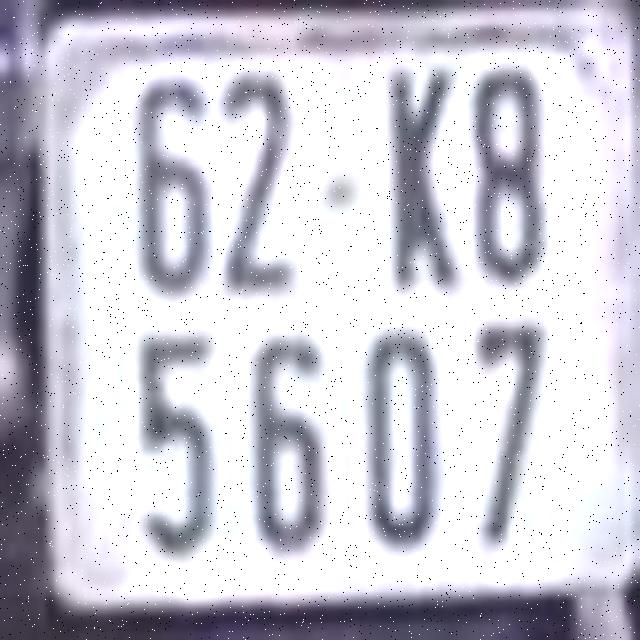0: (364, 322, 441, 548)
2: (220, 70, 296, 293)
5: (134, 330, 218, 556)
6: (248, 328, 328, 553), (137, 75, 210, 294)
7: (471, 317, 548, 546)
8: (470, 62, 549, 284)
K: (385, 59, 458, 295)
